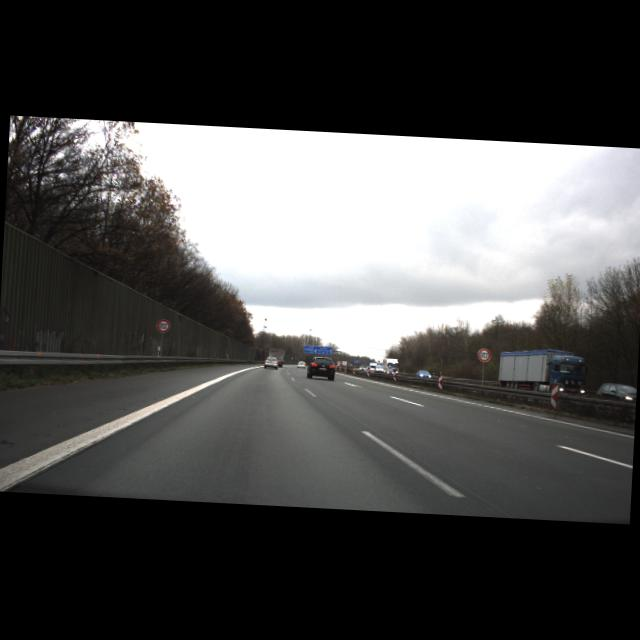prohibitory: (156, 318, 171, 334), (477, 347, 492, 362)
